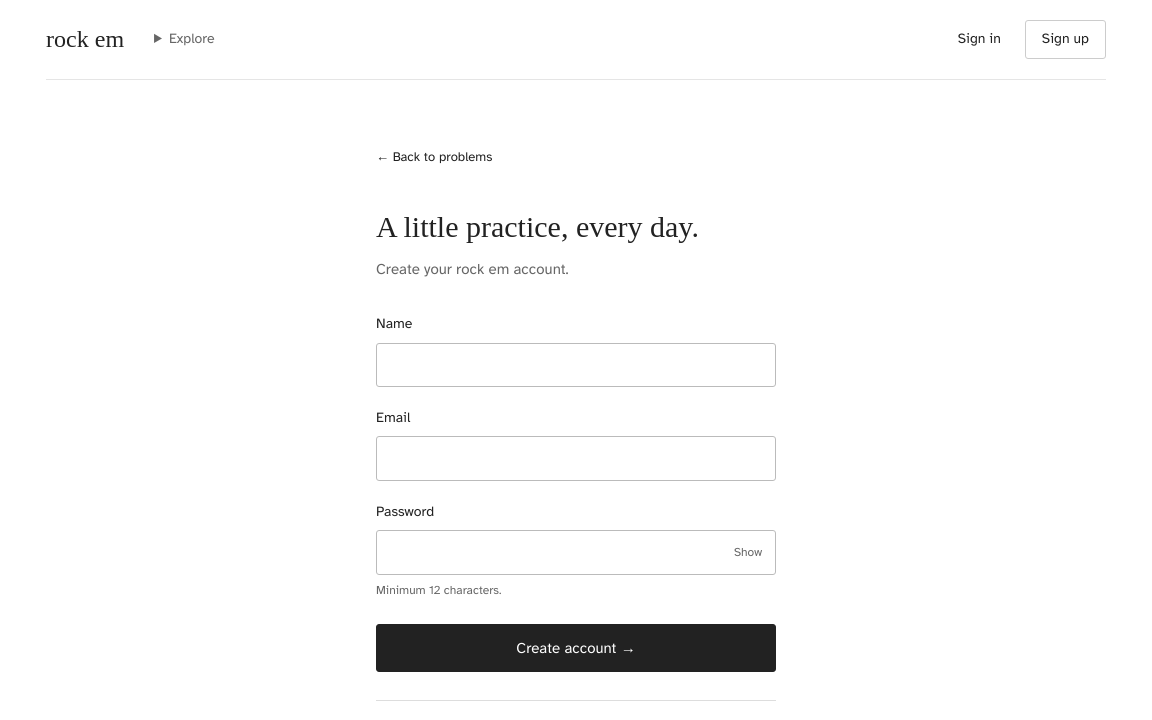
Account › shows an honest error when account services are unavailable
Expected: the button "Create account →" is enabled, left=376, top=624, right=776, bottom=672
Type "Sam Rivers" into the field labelled "Name" at (576, 365), box left=376, top=343, right=776, bottom=387
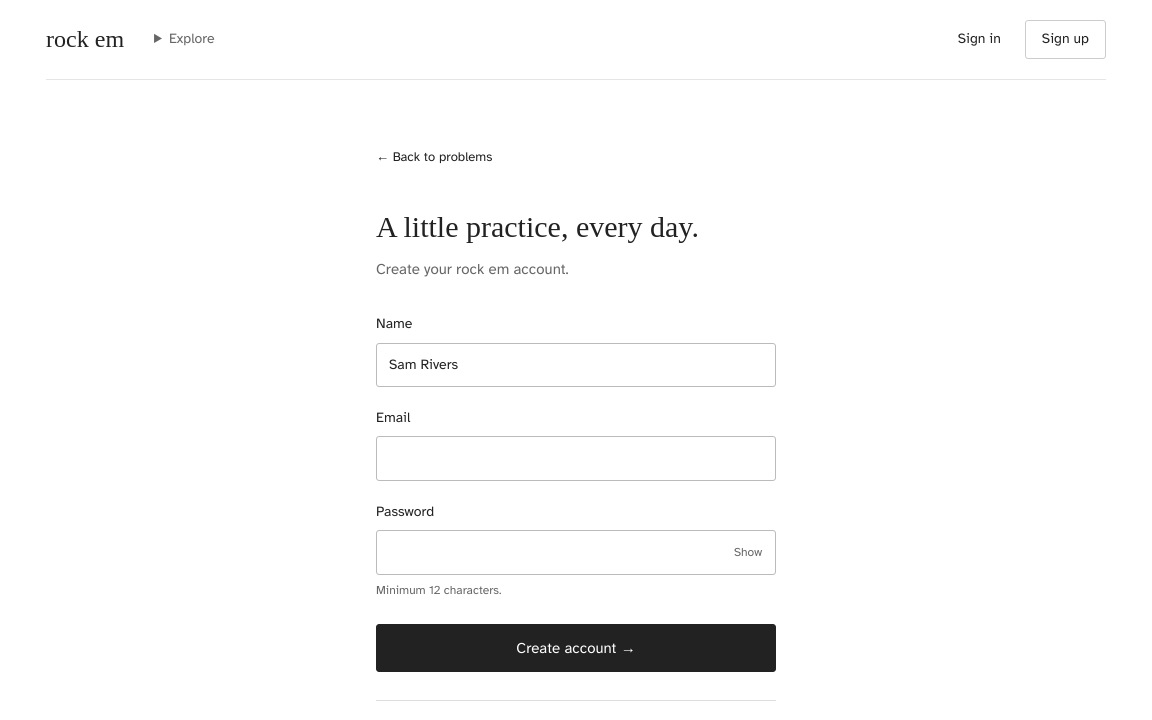
Type "sam@example.com" into the field labelled "Email" at (576, 459), box left=376, top=436, right=776, bottom=481
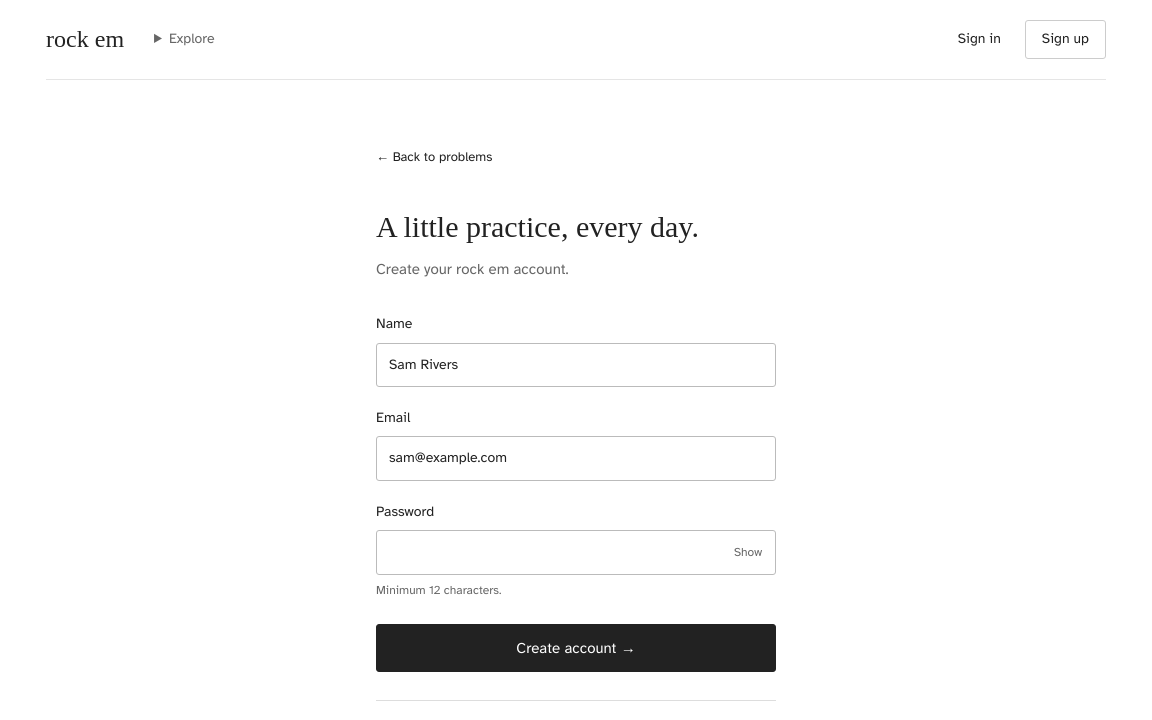
Type "test-password" into the password field labelled "Password" at (576, 552), box left=376, top=530, right=776, bottom=575
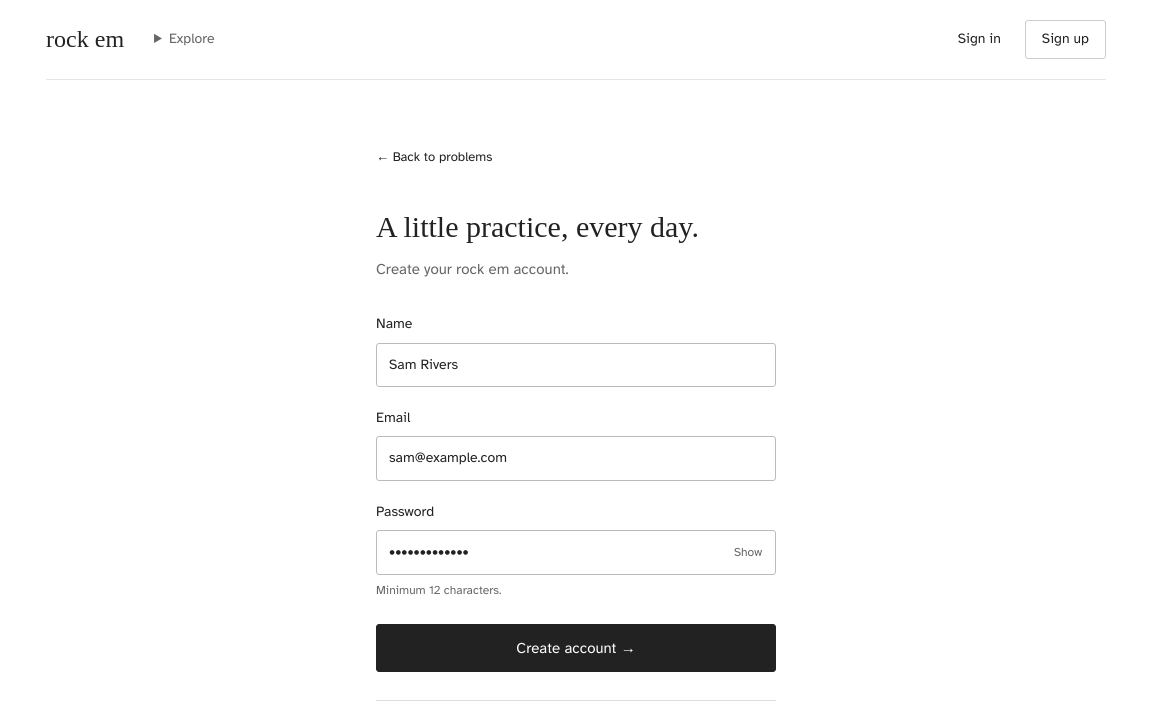
Click the button "Create account →" at (576, 648), box left=376, top=624, right=776, bottom=672
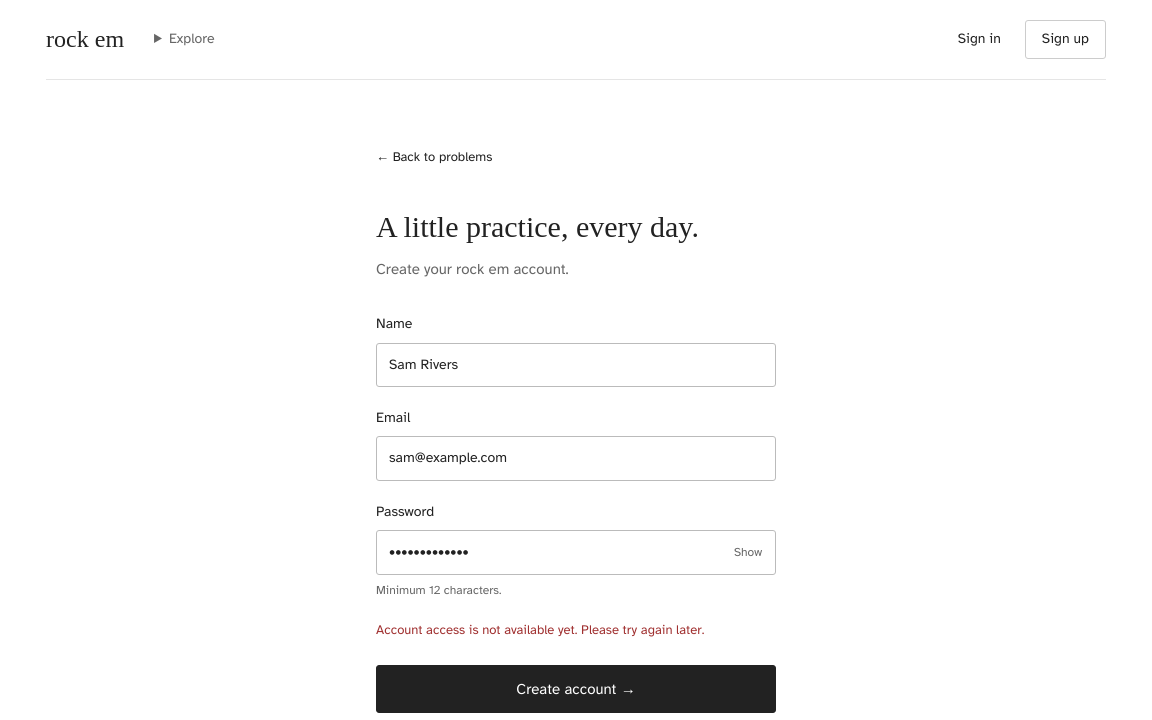
Result: the message shows "Account access is not available yet" at left=376, top=622, right=704, bottom=638
